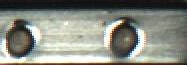joints: (102, 15, 146, 63), (0, 17, 39, 61)
press: (0, 1, 154, 65)
